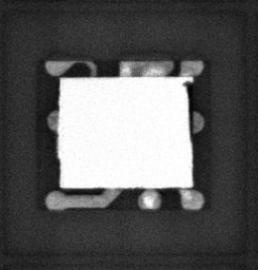DIE_BROKEN: (181, 79, 195, 143)
